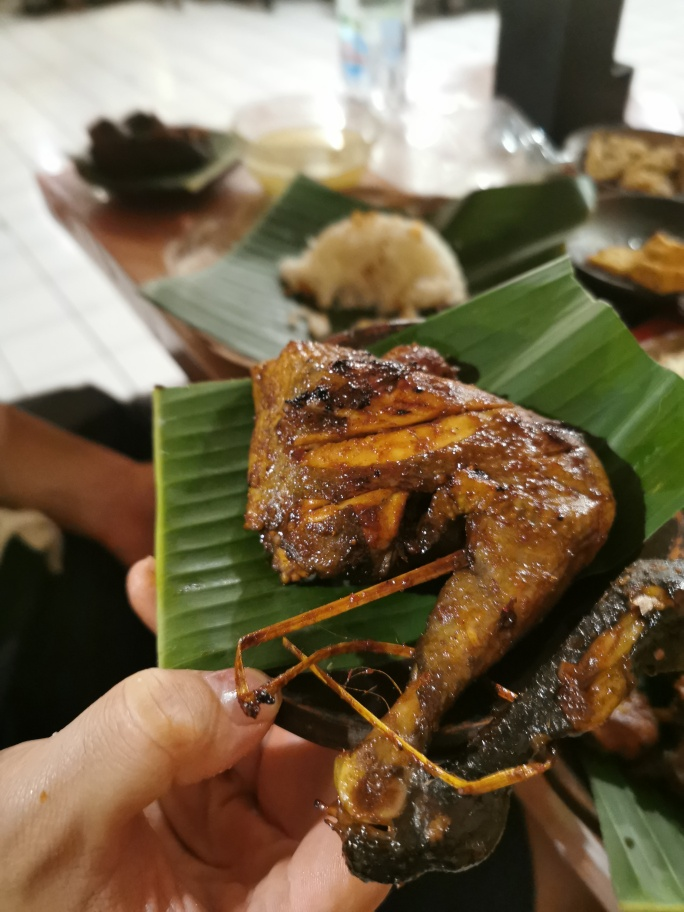ayam bakar: (246, 338, 684, 879)
